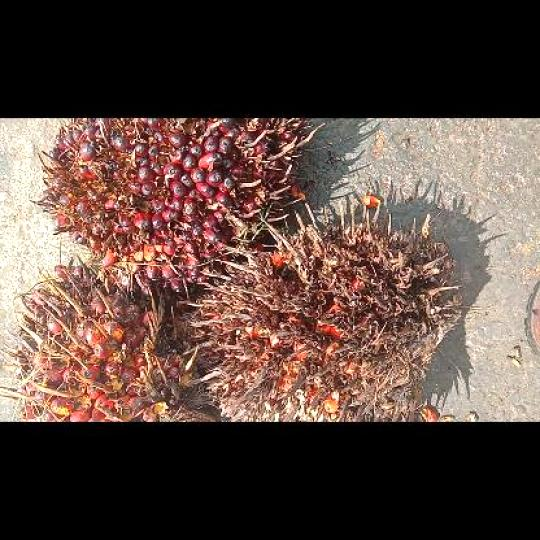masak: (30, 118, 320, 308), (0, 255, 222, 420)
terlalu masak: (175, 200, 462, 420)
